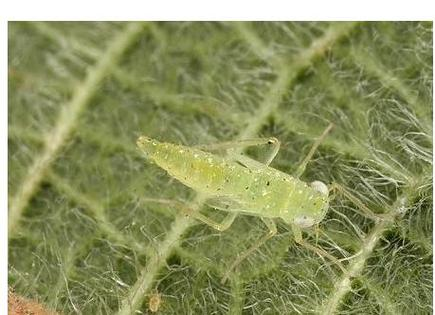Cicadellidae: (136, 134, 331, 243)
